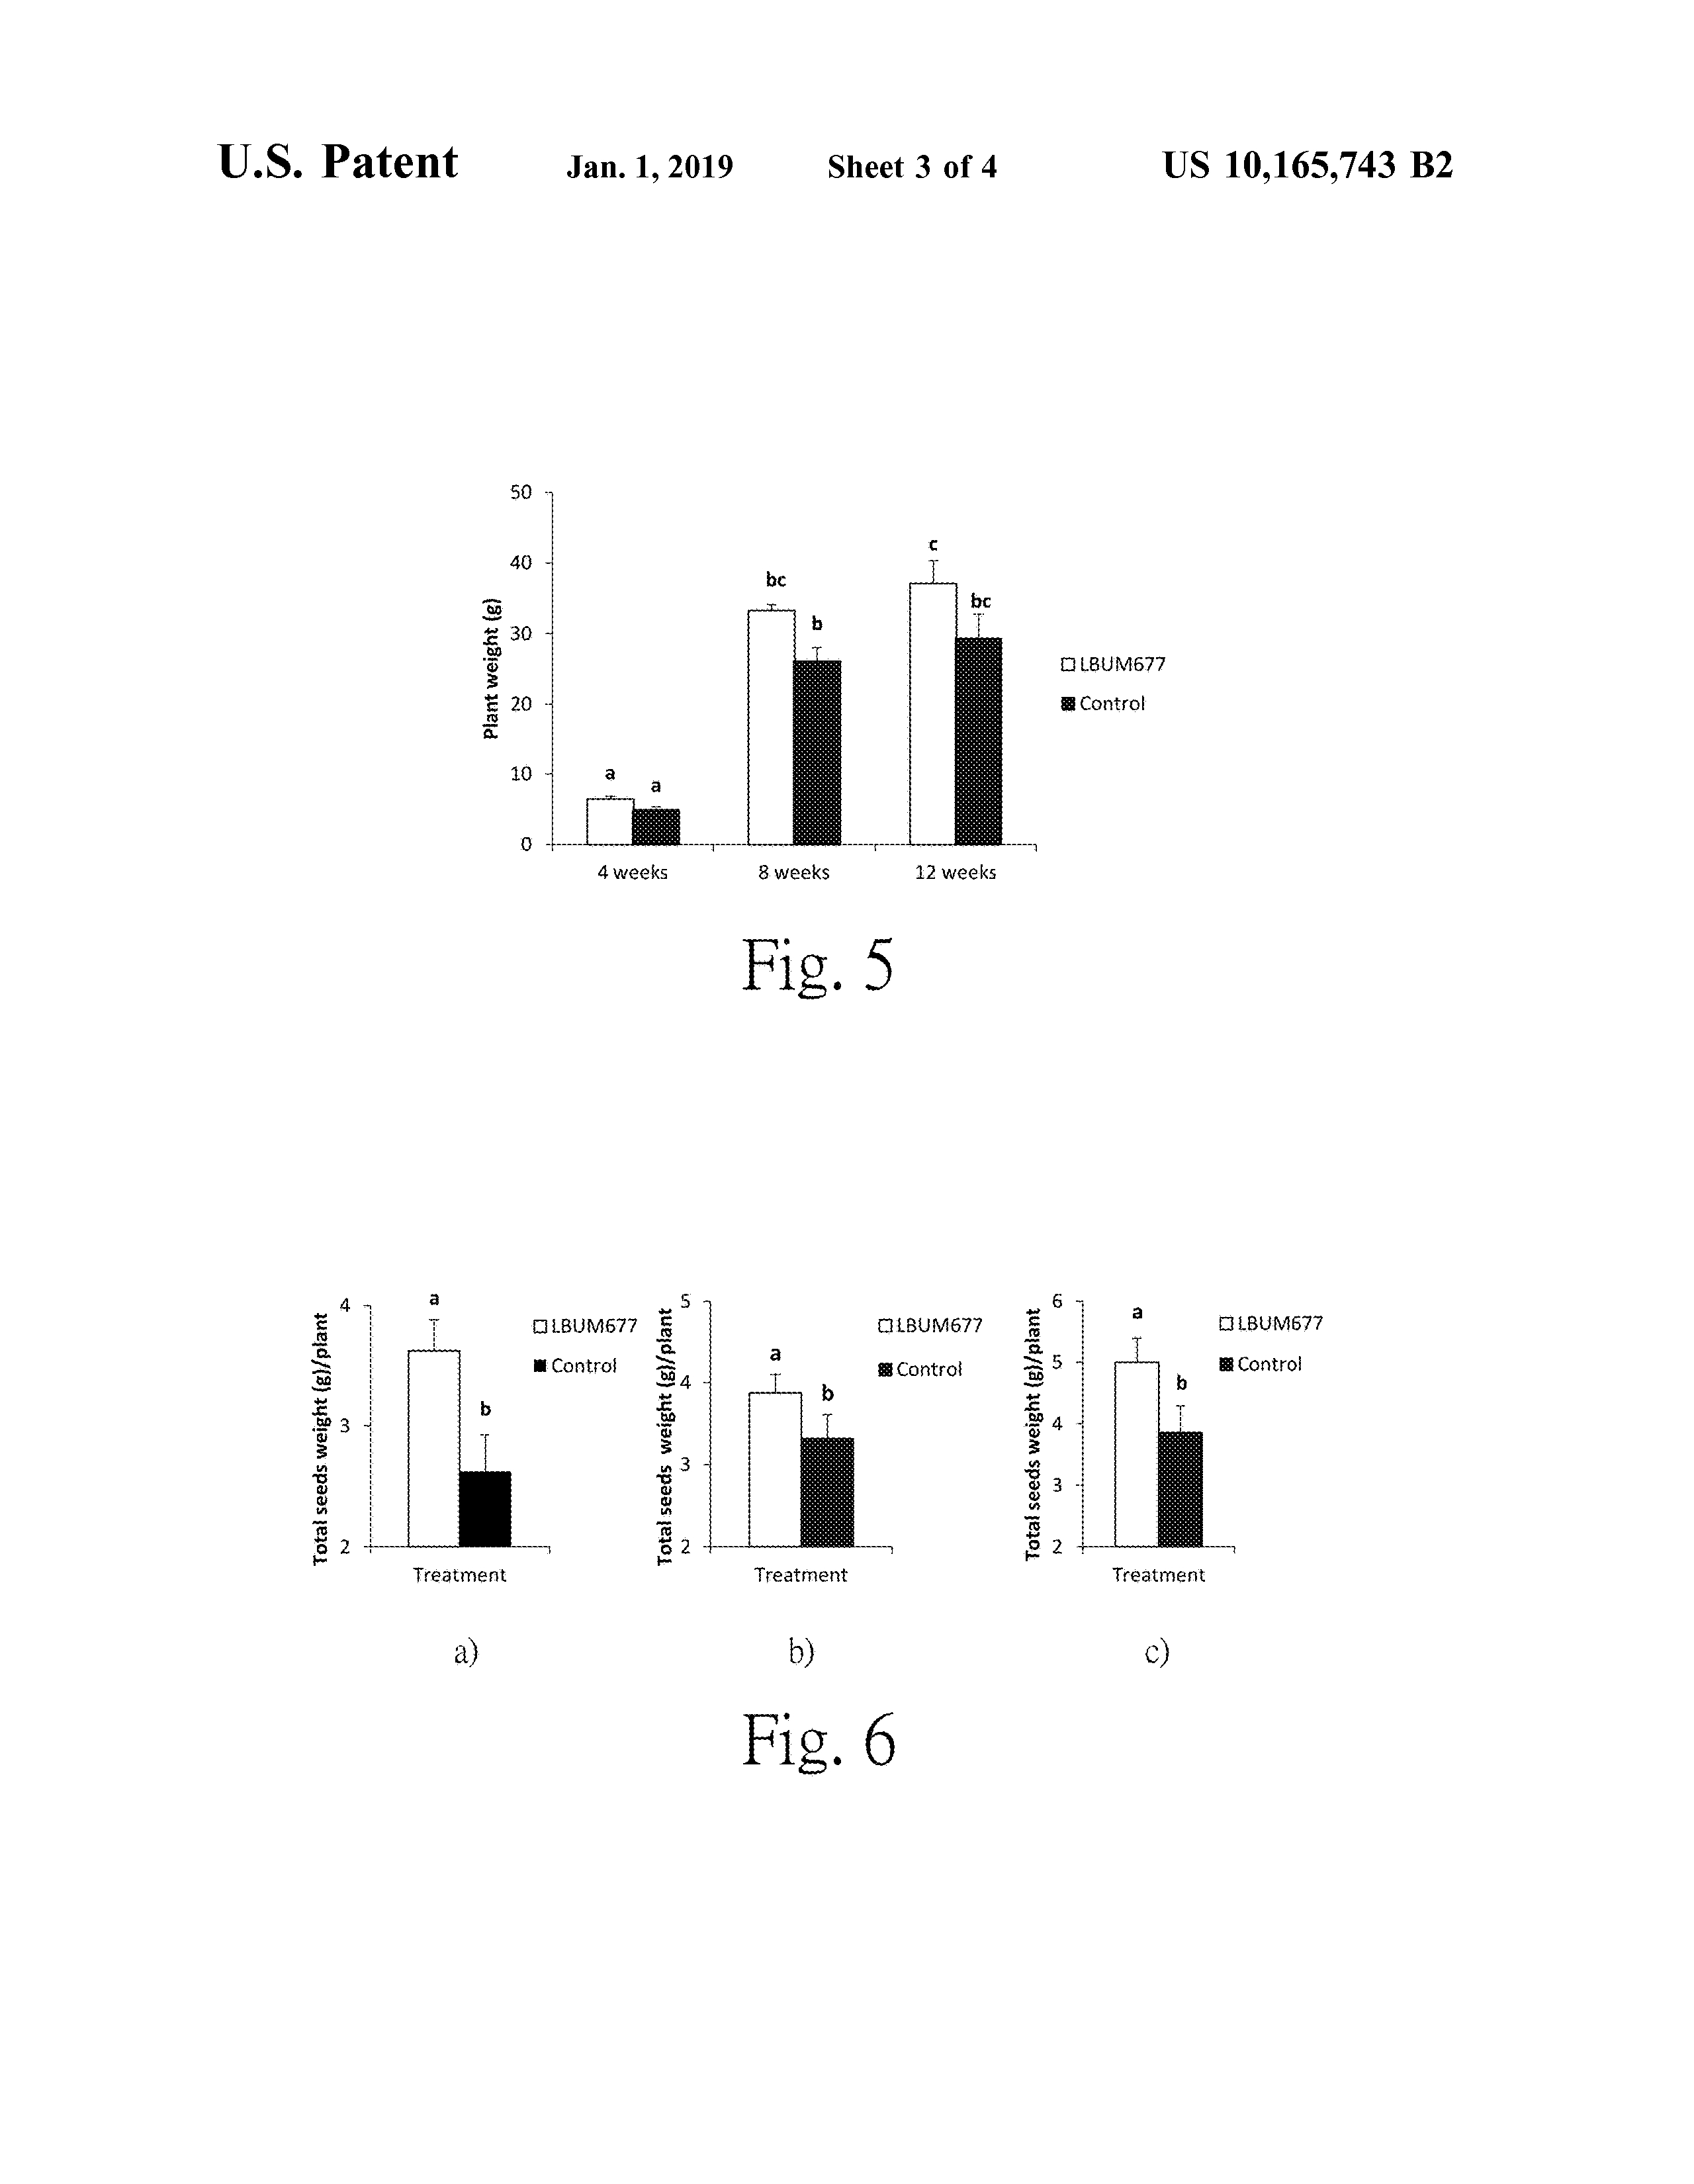patent image: (253, 1216, 1380, 1884), (446, 447, 1224, 993)
